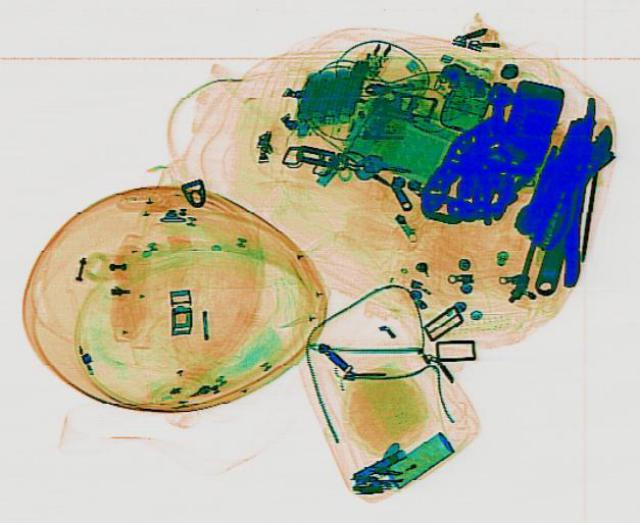Wrench: (518, 112, 618, 297)
